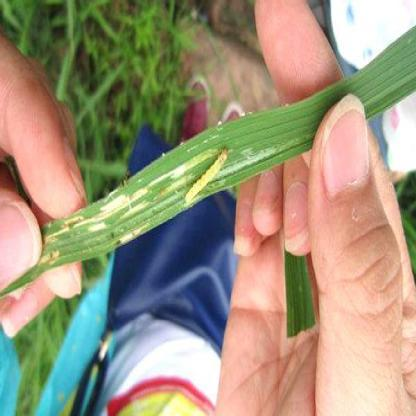leaf-folder: (177, 138, 231, 224)
